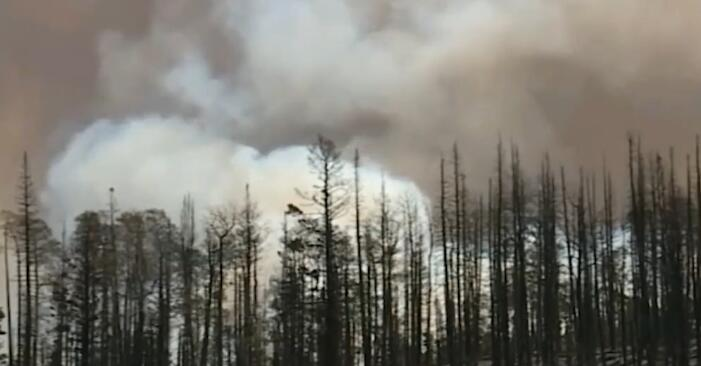yanwu: (38, 0, 696, 233)
